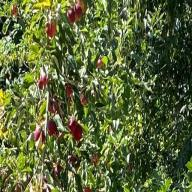Apples: (48, 98, 62, 112), (46, 20, 56, 36), (34, 127, 44, 142), (73, 4, 82, 20), (48, 120, 57, 136), (73, 124, 82, 140), (68, 118, 76, 134), (67, 10, 75, 24), (70, 156, 78, 168), (54, 163, 62, 175), (65, 84, 72, 97), (91, 154, 99, 165), (40, 176, 48, 186), (42, 184, 52, 192), (11, 5, 18, 16), (43, 74, 49, 84), (81, 95, 87, 105), (98, 57, 103, 68), (38, 78, 43, 89), (85, 186, 92, 192)
